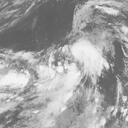cyclone: (68, 37, 105, 74)
